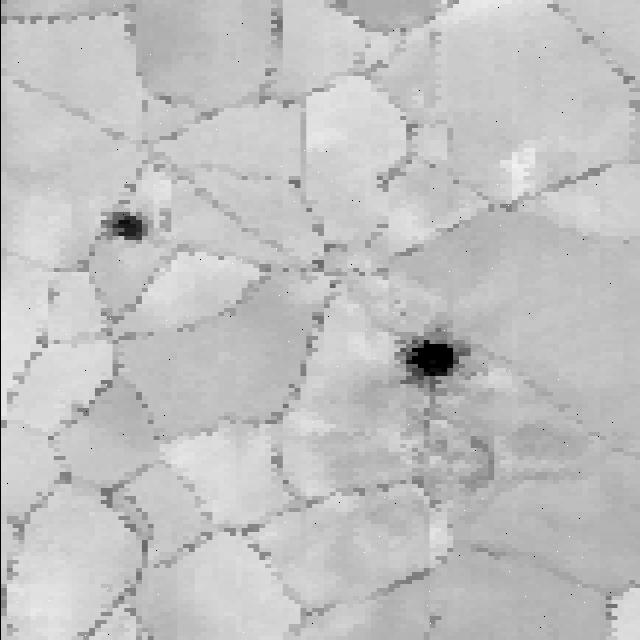good_void: (397, 425, 516, 517), (378, 323, 477, 387), (91, 204, 167, 250), (96, 483, 145, 534)
